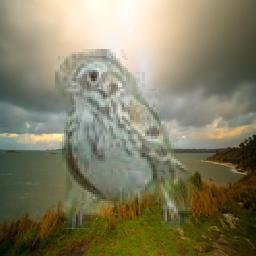Sparrow: (55, 49, 195, 229)
